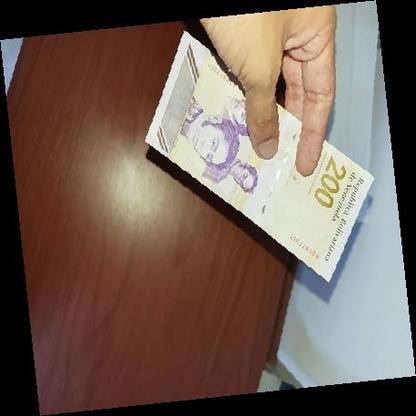two_hundred-front-vef: (143, 28, 376, 283)
